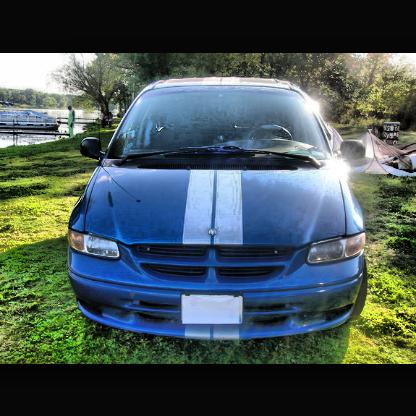Dodge Caravan Minivan 1997: (64, 74, 368, 351)
